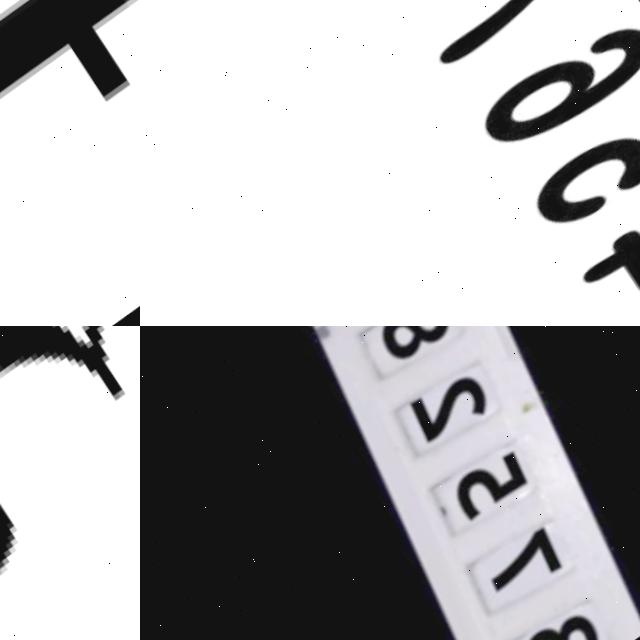2: (394, 353, 515, 472)
3: (0, 326, 140, 640), (506, 592, 628, 640)
4: (559, 158, 640, 326)
5: (503, 76, 640, 278), (433, 433, 559, 553)
6: (456, 0, 640, 194)
7: (395, 0, 620, 114), (466, 511, 589, 631)
8: (357, 326, 481, 394), (365, 0, 579, 33)
F: (0, 0, 140, 325)
